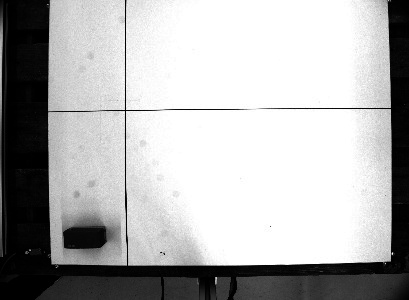b3: (61, 226, 107, 250)
